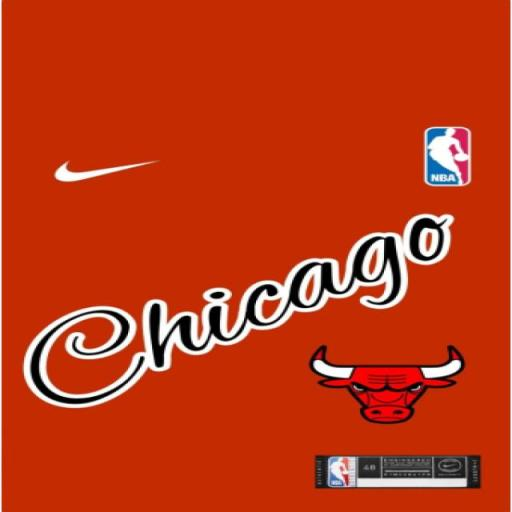Nike: (50, 156, 174, 190)
